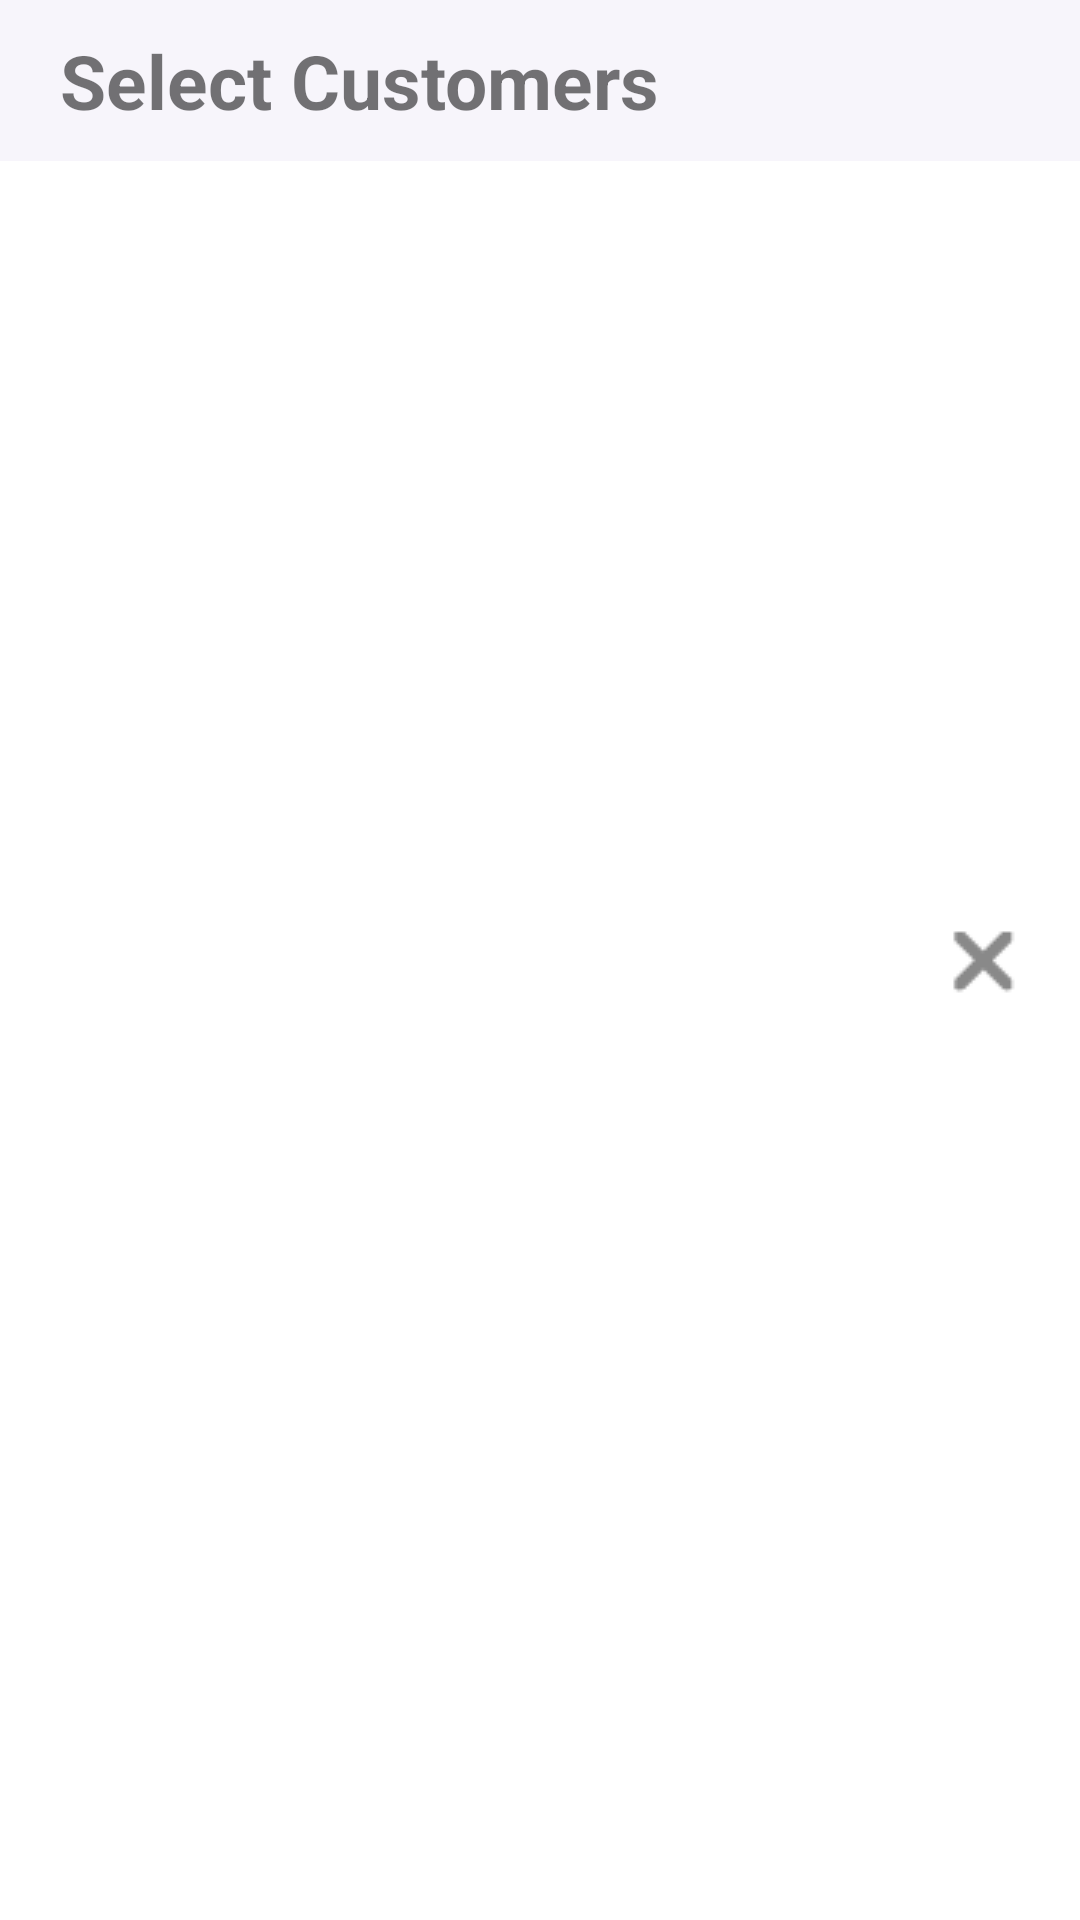

Where icons sit on this 1080×1920 app screen, as {"left": x1, "top": y1, "right": x2, "bottom": y2}:
cross delete: {"left": 953, "top": 931, "right": 1013, "bottom": 992}
